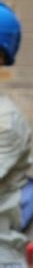hard-hat: (0, 0, 20, 65)
